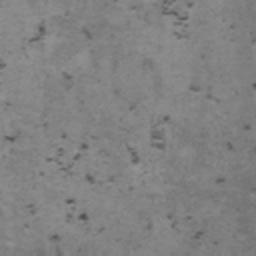Oxide scale of temperature system: (45, 113, 170, 256), (187, 82, 256, 186), (27, 23, 93, 81), (159, 0, 195, 41), (165, 212, 205, 239), (3, 133, 17, 145), (0, 56, 8, 72)
